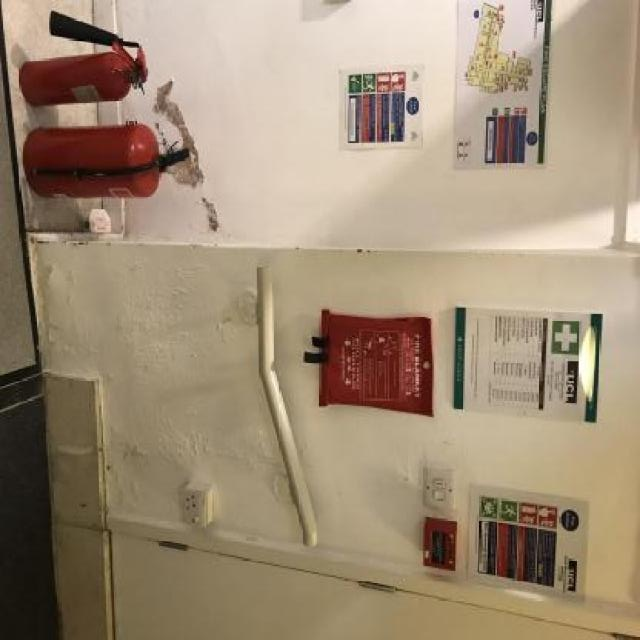fire extinguisher: (22, 118, 195, 205), (16, 6, 150, 114)
